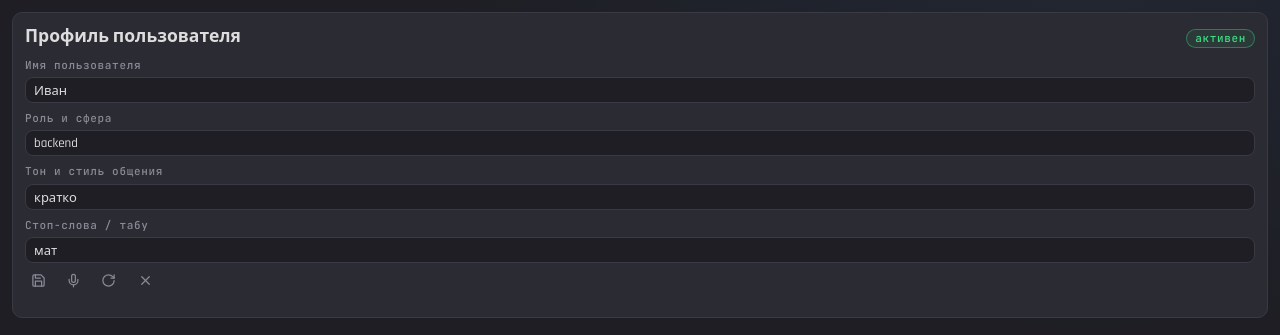
Test: ProfileTab — вкладка «Профили» › «Заполнить заново» → POST {action: reset}, поля очищаются
Check: the heading "Профиль пользователя" is shown, box [25,25,241,50]
Click the button titled "Заполнить заново". click: (108,282)
box: [95,271,122,293]
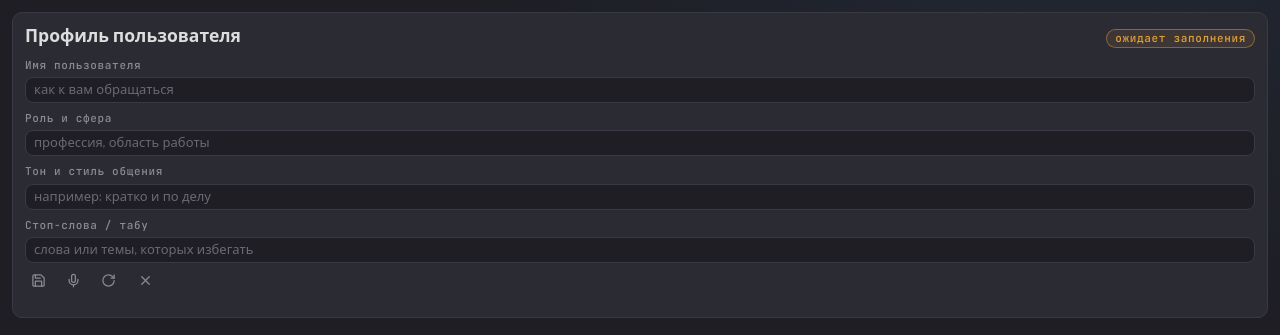
Check: the field showing "Иван" is not shown
Check: the text "ожидает заполнения" is shown, box [1106,29,1255,48]
